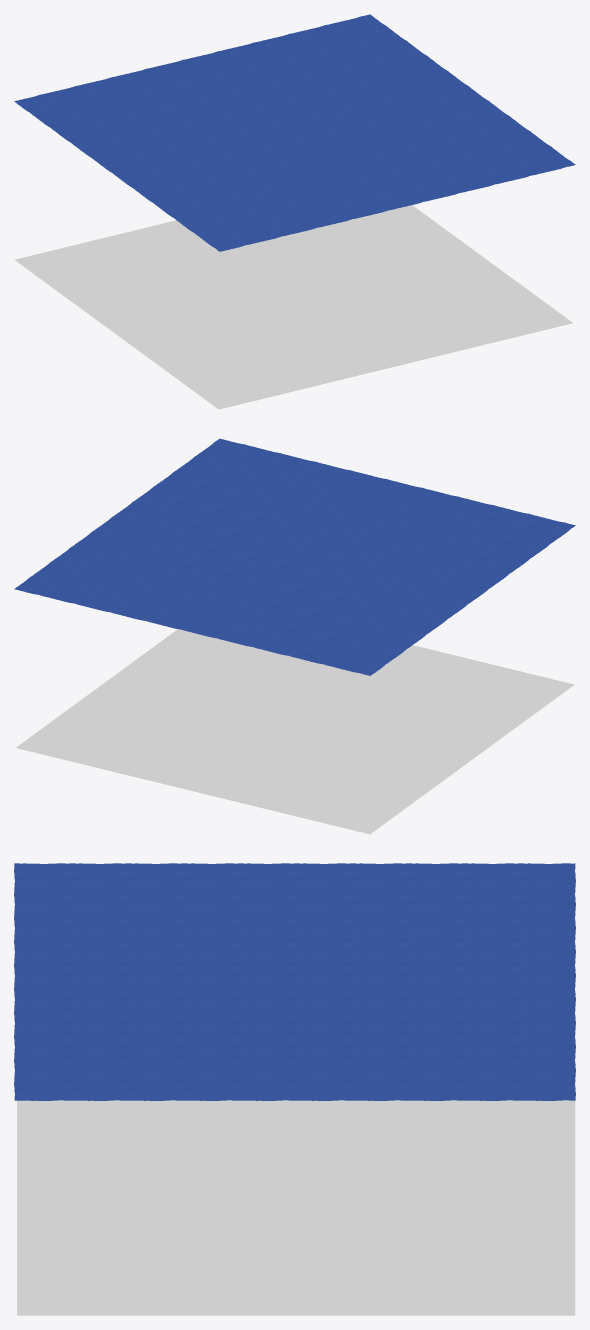
Rendered from world.gltf.
The picture shows the model from 3 angles, top to bottom: view 1: azimuth 30°, elevation 25°; view 2: azimuth 150°, elevation 25°; view 3: azimuth 270°, elevation 25°; orthographic projection. The views are drawn at different scales.
Visible parts, largest first — view 1: Sea, Plane; view 2: Sea, Plane; view 3: Sea, Plane.
Part boxes in pixels (x1,y1,x2,y2): Sea: (14, 14, 575, 251); Plane: (14, 205, 572, 409); Sea: (14, 438, 575, 675); Plane: (16, 629, 574, 834); Sea: (14, 863, 575, 1100); Plane: (17, 1083, 575, 1315).
Bounding box in the file's own units: 1388 × 590 × 1389.
